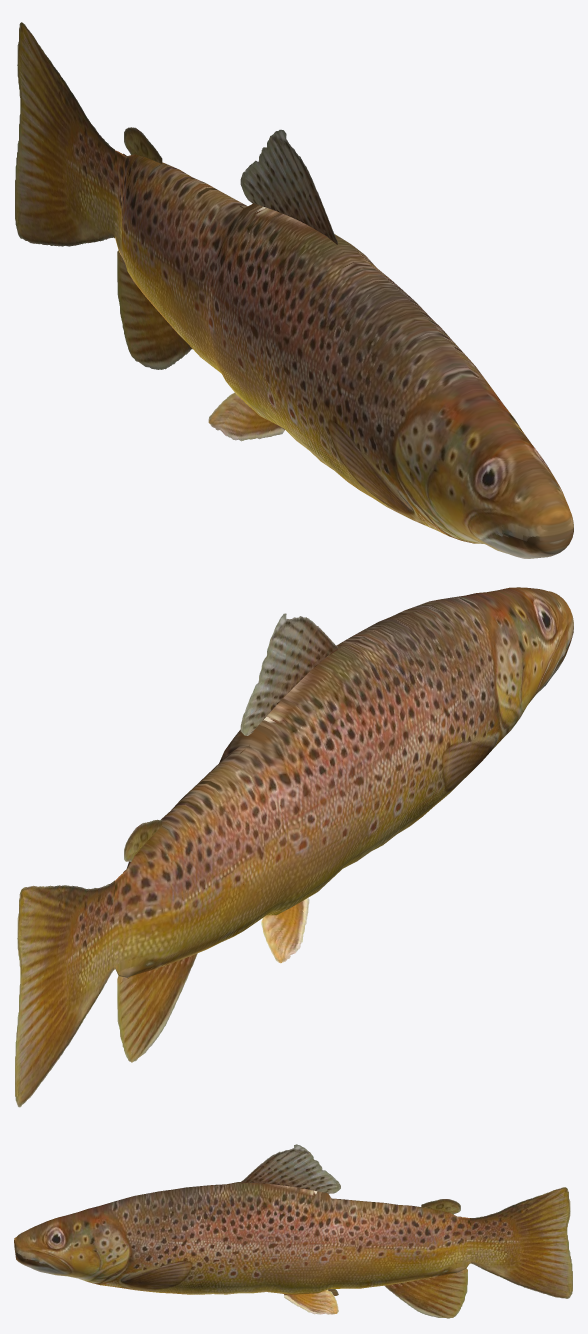
File: trout_brown.glb
3 renders of one model, top to bottom at view 1: azimuth 30°, elevation 25°; view 2: azimuth 150°, elevation 25°; view 3: azimuth 270°, elevation 25°, orthographic. The views are drawn at different scales.
Visible parts, largest first — view 1: Trout_Brown; view 2: Trout_Brown; view 3: Trout_Brown.
Boxes of the visible parts, x1,y1,x2,y2 form: Trout_Brown: (15,22,573,558); Trout_Brown: (15,587,573,1107); Trout_Brown: (14,1144,572,1318).
Size of the model in its own units: 0.0545 by 0.1574 by 0.4514.
2 materials, 2 textured.
